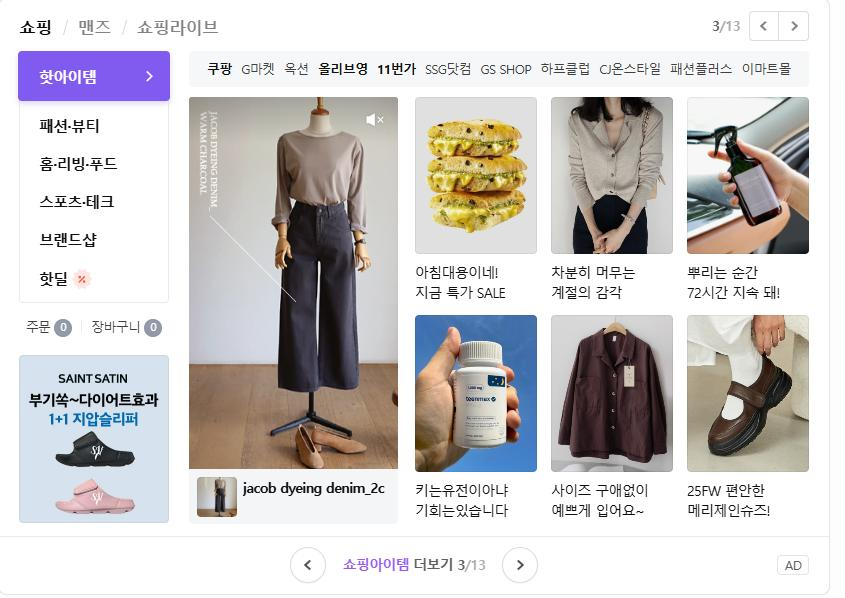button: (20, 53, 170, 104), (90, 314, 171, 347), (31, 267, 115, 298), (32, 114, 113, 146), (32, 192, 128, 219), (131, 17, 232, 40), (35, 155, 138, 177), (746, 11, 813, 42), (286, 542, 330, 585), (22, 315, 83, 344), (501, 545, 545, 585), (40, 230, 113, 254), (668, 57, 736, 82), (598, 58, 663, 82), (740, 58, 796, 83), (478, 58, 534, 83), (538, 58, 594, 82), (318, 58, 373, 82), (12, 13, 57, 41), (424, 59, 476, 83), (376, 58, 420, 83), (77, 14, 118, 40), (280, 57, 316, 82), (242, 57, 277, 82), (201, 58, 237, 82)
popup: (19, 352, 171, 525), (772, 553, 817, 580)
